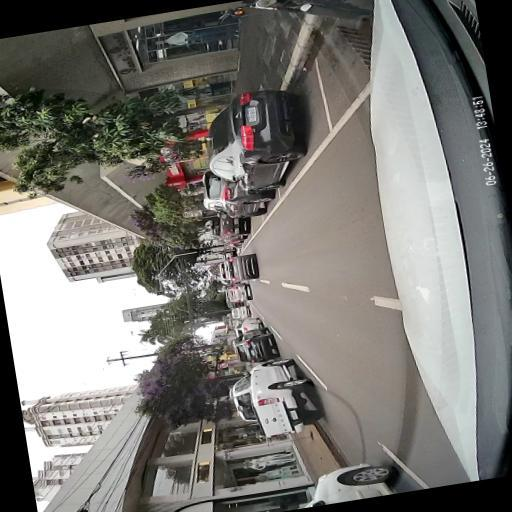R-6a: (218, 360, 230, 368)
